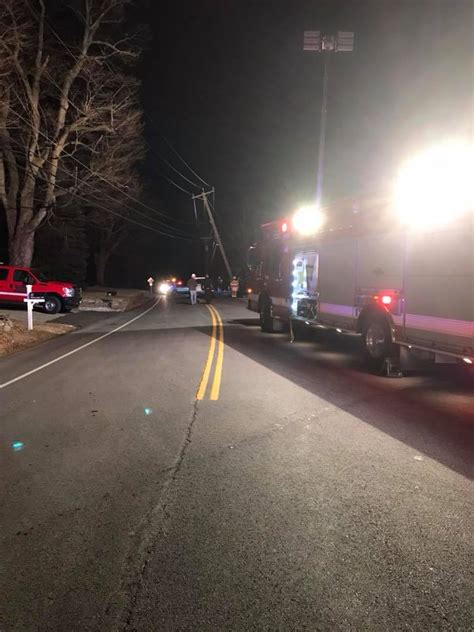pole: (185, 184, 244, 281)
